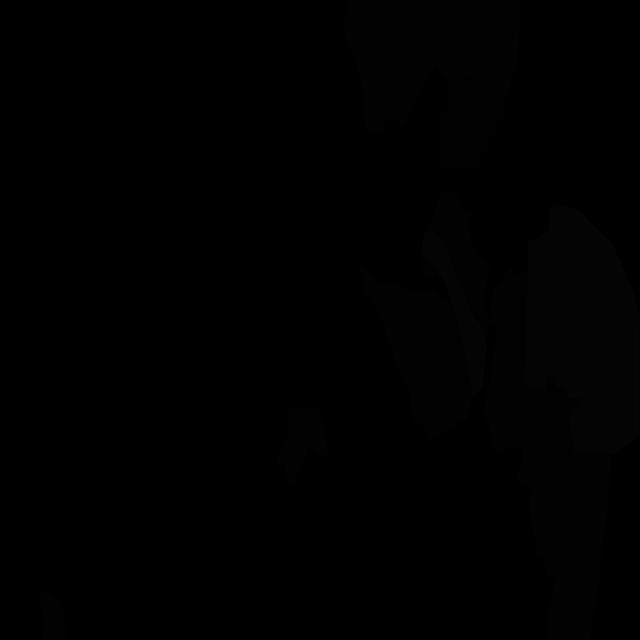cardboard: (343, 0, 522, 135), (354, 266, 472, 439), (514, 376, 590, 567), (546, 450, 612, 640), (484, 268, 540, 455), (424, 191, 491, 339), (277, 408, 328, 487), (38, 591, 67, 639), (422, 252, 436, 279), (568, 398, 582, 415)
rigid_plastic: (437, 76, 505, 176)
soft_plastic: (524, 202, 640, 454), (422, 231, 486, 397)
